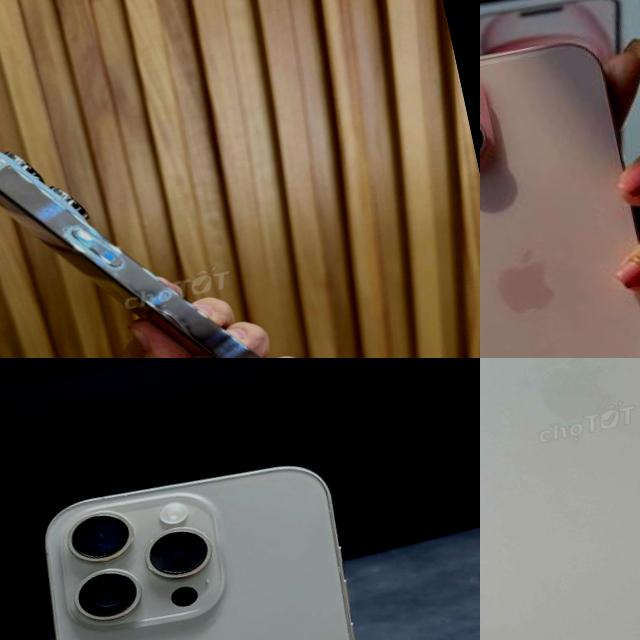gen_14: (0, 64, 392, 358)
gen_15: (0, 435, 442, 640), (480, 16, 640, 358), (480, 358, 640, 640)
